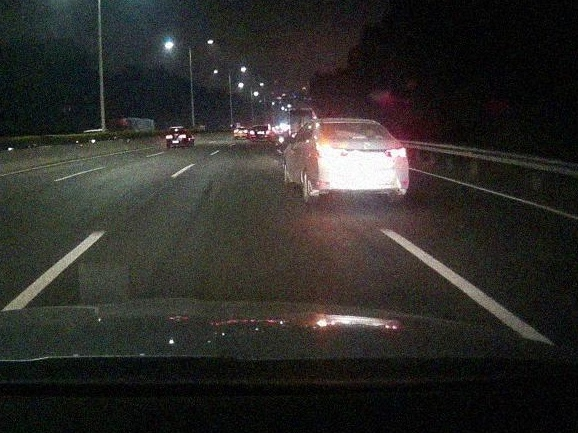L_light: (316, 148, 341, 158)
R_light: (385, 148, 407, 157)
T_light: (351, 135, 366, 139)
night-no: (315, 118, 409, 204)
